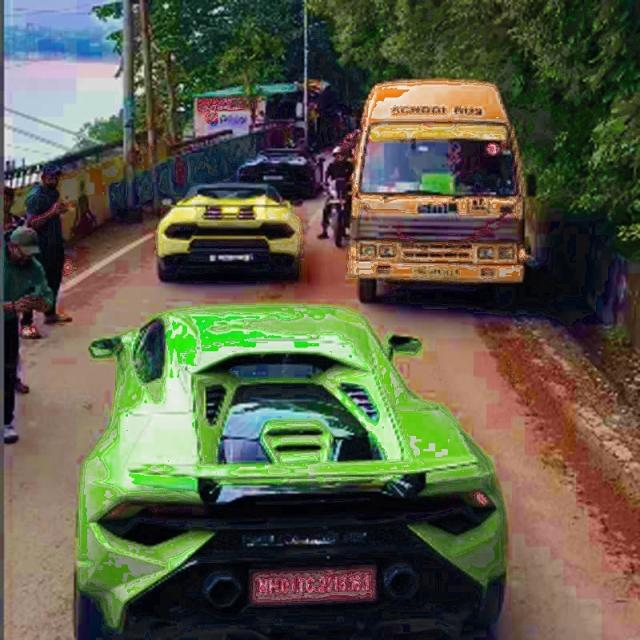green: (71, 290, 506, 640)
